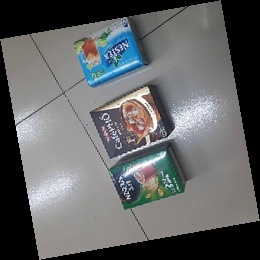CF pho: (89, 84, 174, 159)
Nes Rang: (108, 144, 188, 210)
Nestea: (73, 17, 149, 86)
